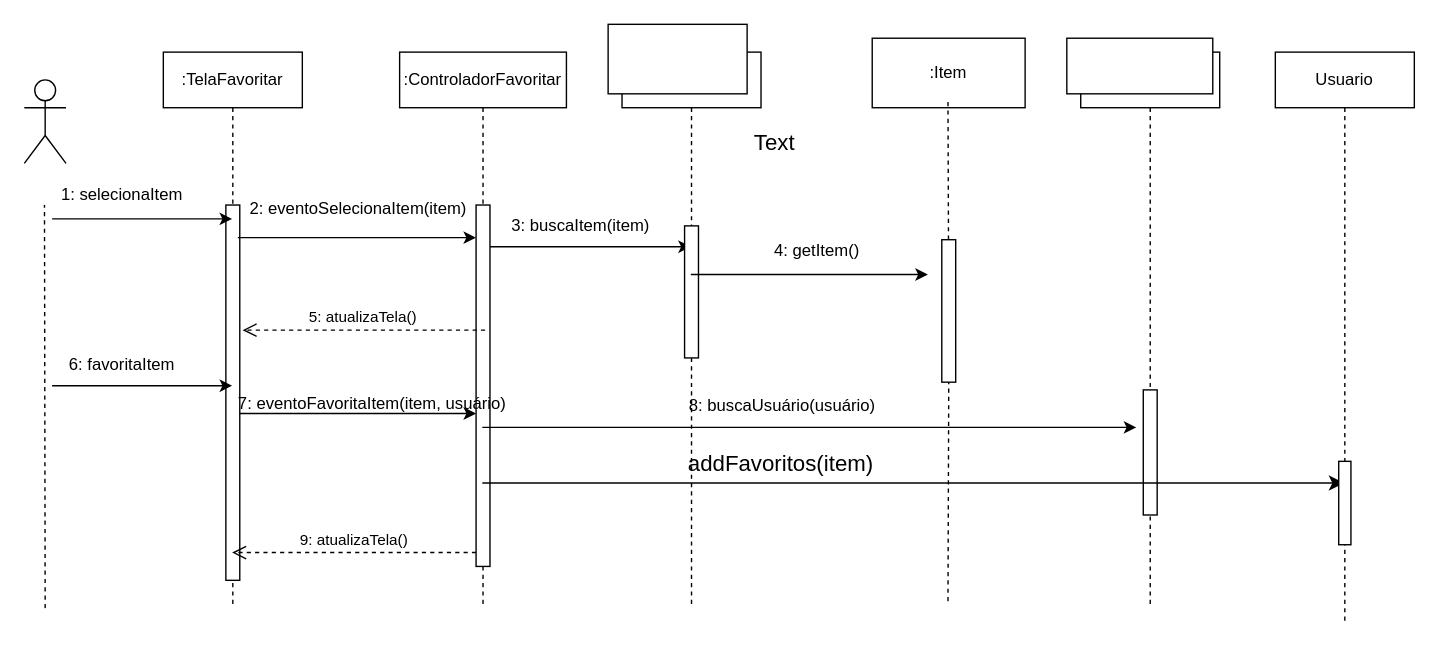
Some shapes in this 1439 by 646 pixel diagram are drawn without their labels. The shapes that lost their labels are listed below. From the top down, each one's centre as x and y in pixels, then its label:
At (677,58): "DBItens".
At (1139,65): "DBUsuarios".
At (44,121): "Actor".
